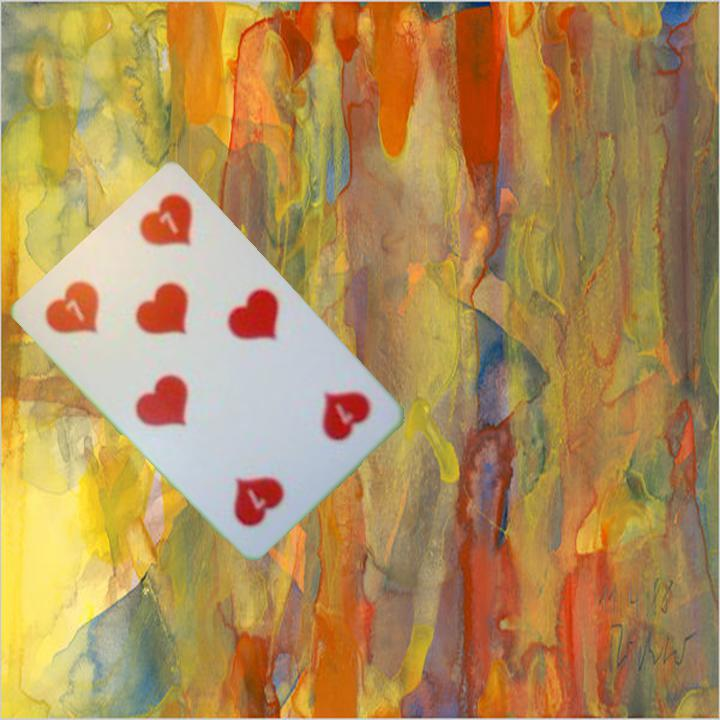h_7.png: (259, 355, 388, 483), (30, 245, 159, 373)
